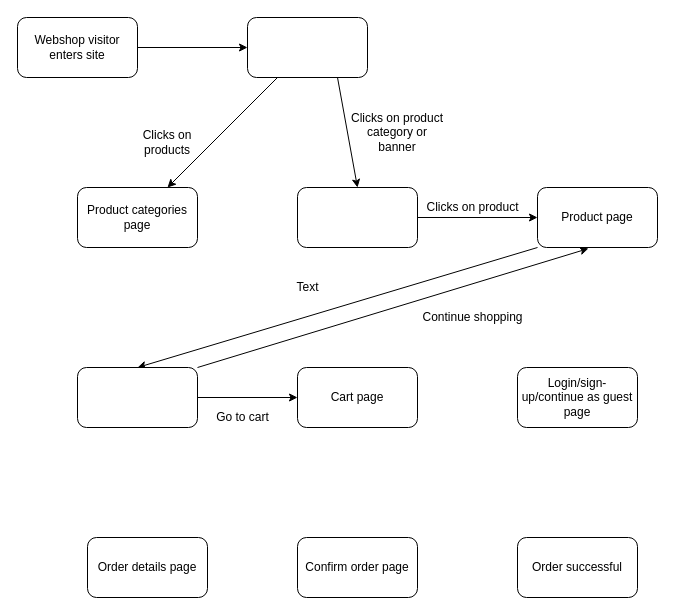
Image size: 675x615. Some labels were removed from this diagram. The shapes that lost their labels are listed below. From the top down, each one's centre as x and y in pixels, then its label:
At point 307,47: "E-commerce home page".
At point 357,217: "Product category page".
At point 137,397: "Added to cart popup".
